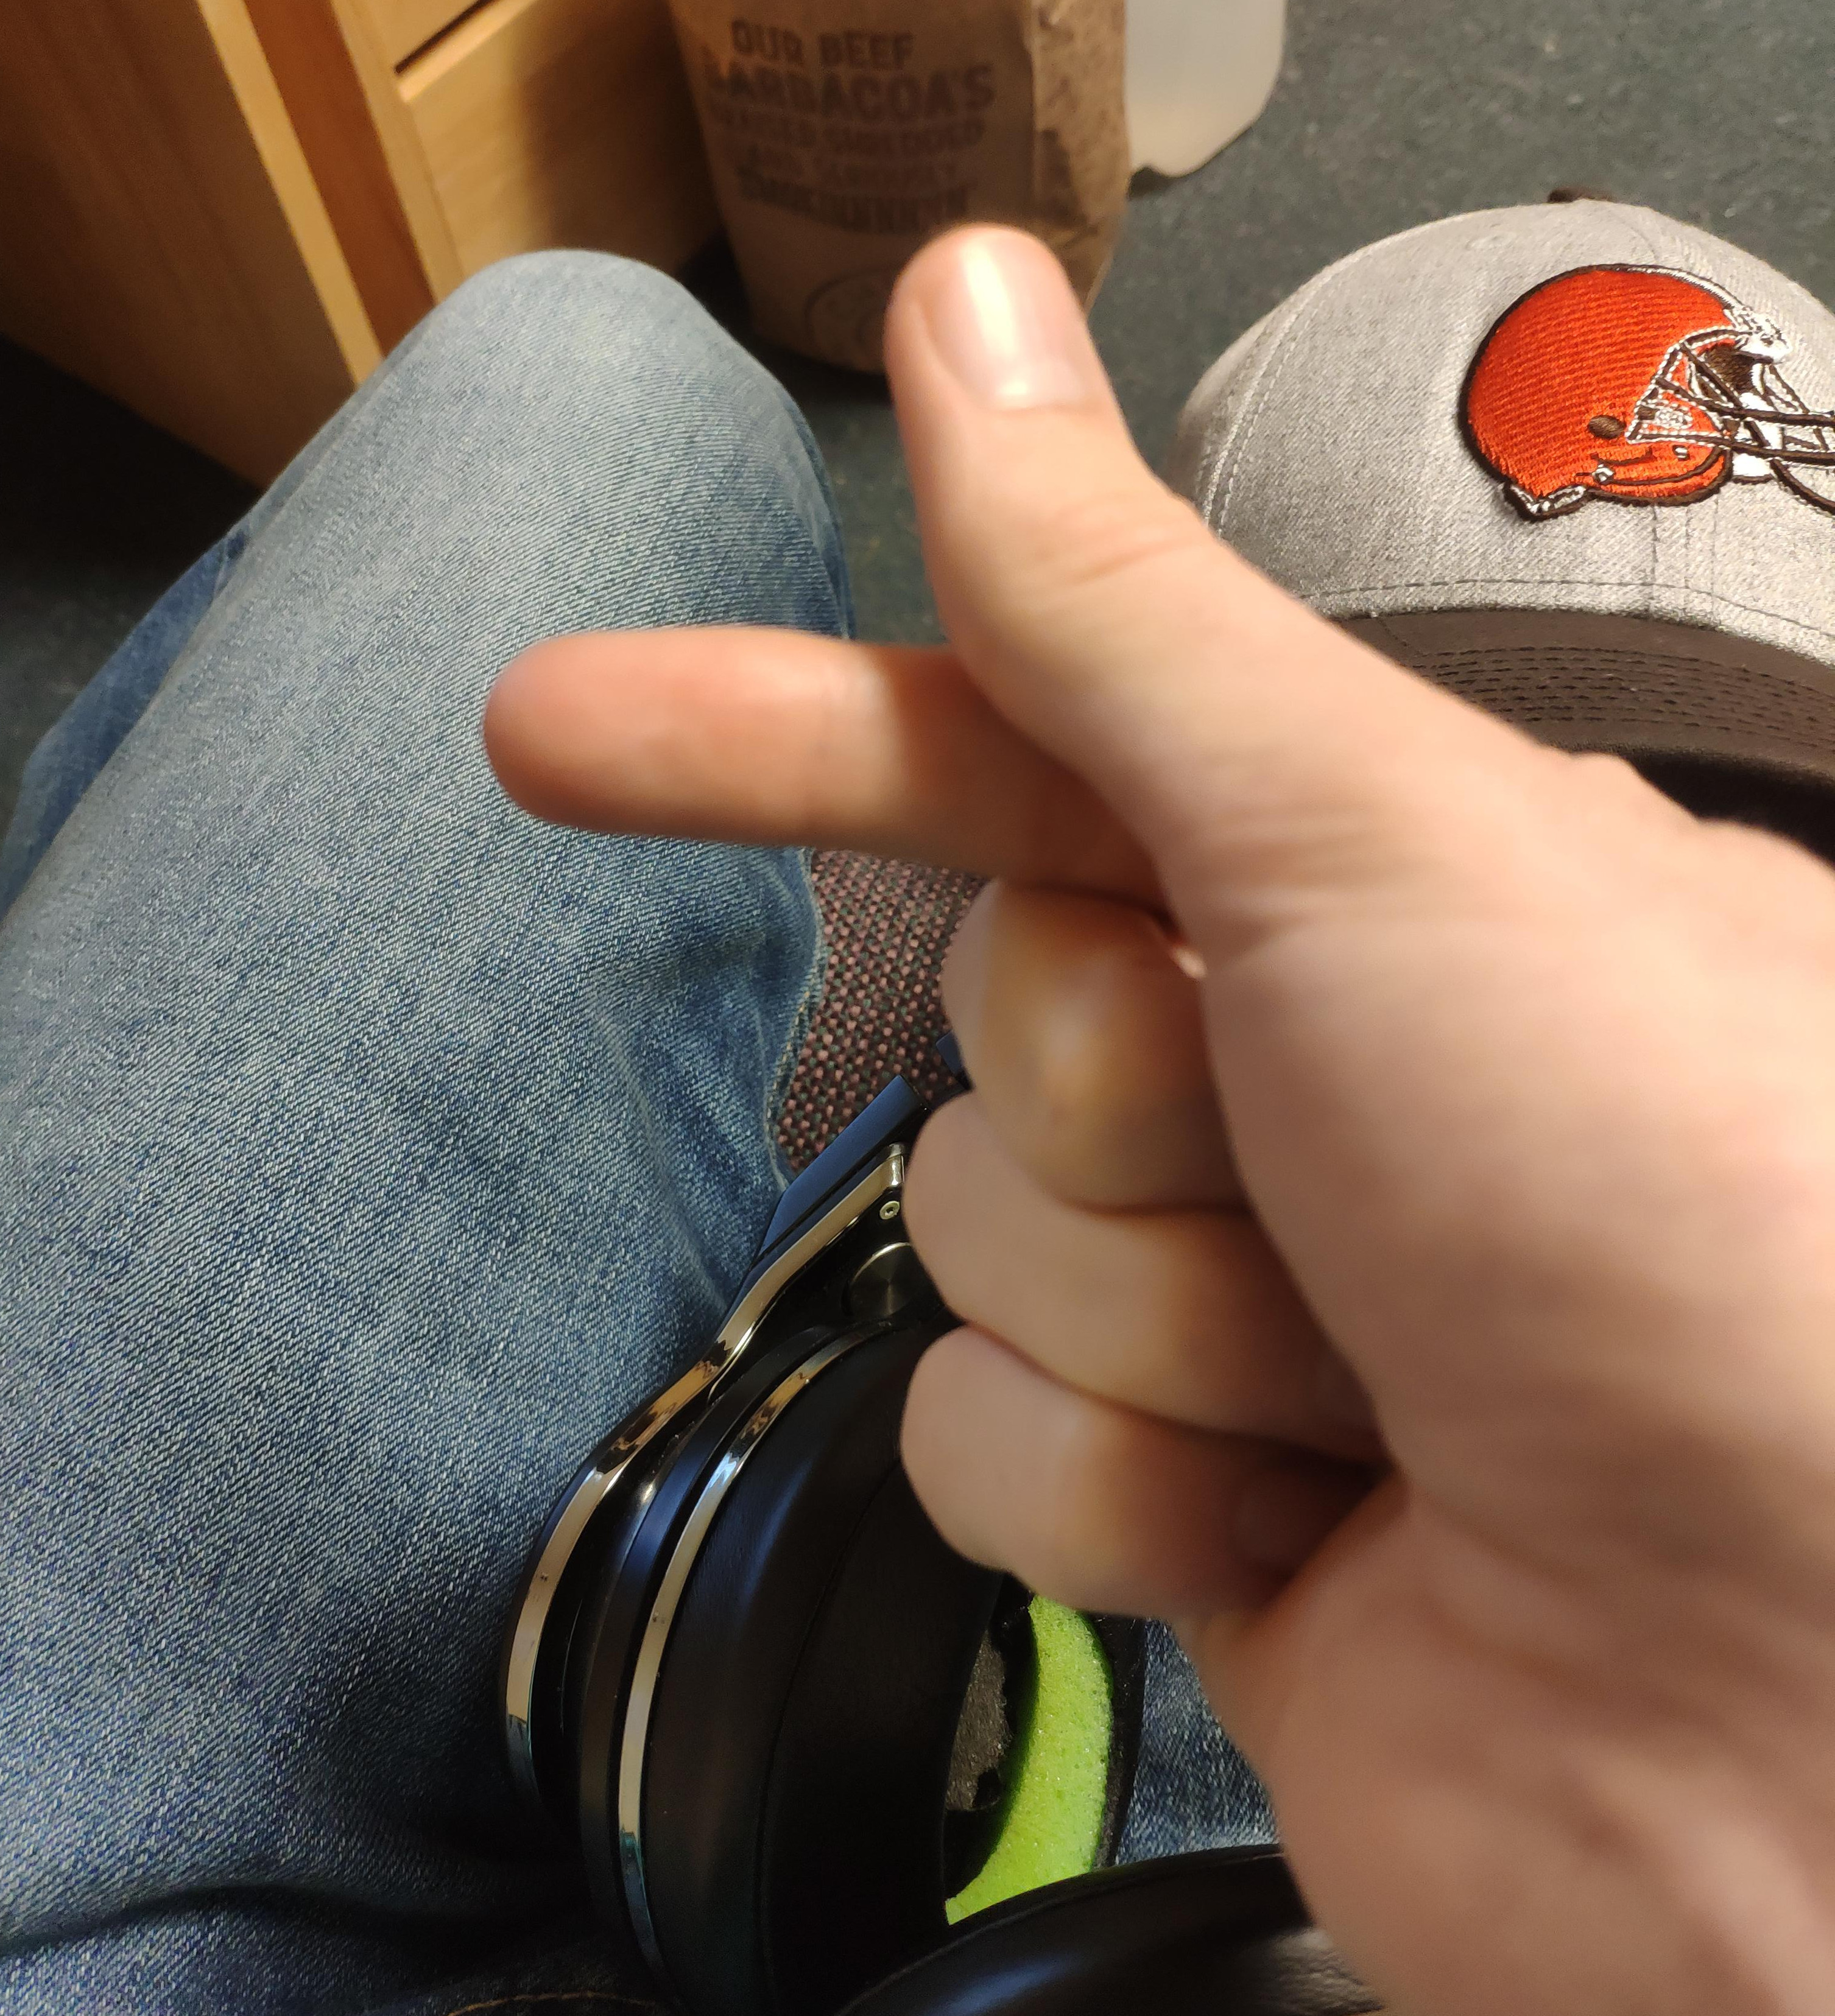heart gesture: (462, 212, 1263, 880)
